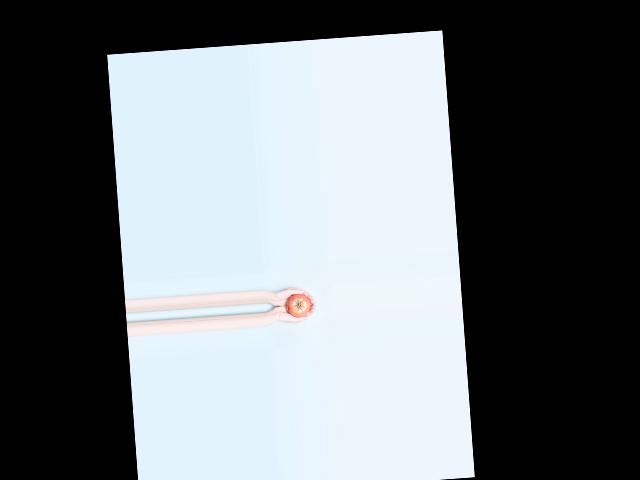tomato: (285, 292, 310, 317)
